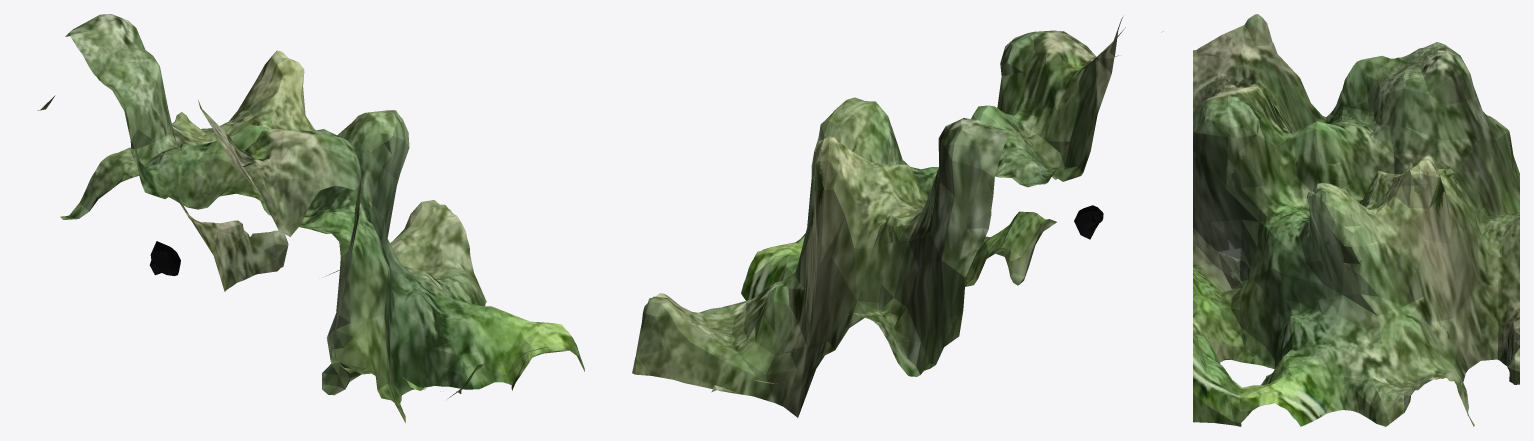
3 renders of one model, left to right at view 1: azimuth 30°, elevation 25°; view 2: azimuth 150°, elevation 25°; view 3: azimuth 270°, elevation 25°, orthographic. The views are drawn at different scales.
Bounding box in the file's own units: 2.95 × 2.74 × 2.95.
Materials: 4 (4 with a texture image).
